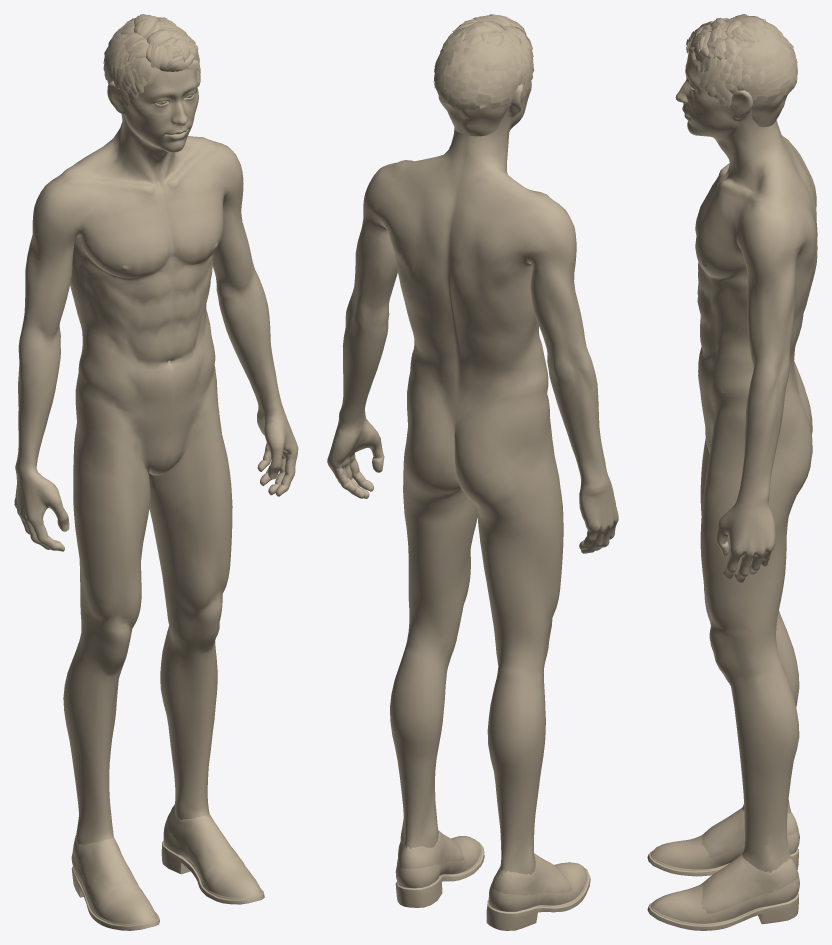
Rendered from mote.fbx.
The picture shows the model from 3 angles, left to right: view 1: azimuth 30°, elevation 25°; view 2: azimuth 150°, elevation 25°; view 3: azimuth 270°, elevation 25°; orthographic projection.
Parts seen in each view (by area): view 1: bodyShape_skin_Shape0, bodyShape_skin_Shape1, bodyShape_skin_Shape2, MV_Hair_Shape0, shoes_r_Shape4, shoes_l_Shape4, shoes_l_Shape1, shoes_r_Shape1, shoes_l_Shape0, shoes_r_Shape0; view 2: bodyShape_skin_Shape0, bodyShape_skin_Shape1, MV_Hair_Shape0, shoes_r_Shape4, shoes_r_Shape1, shoes_l_Shape1, shoes_r_Shape0, shoes_l_Shape4, shoes_l_Shape0, bodyShape_skin_Shape2; view 3: bodyShape_skin_Shape0, bodyShape_skin_Shape1, MV_Hair_Shape0, bodyShape_skin_Shape2, shoes_l_Shape4, shoes_l_Shape1, shoes_r_Shape1, shoes_l_Shape0, shoes_r_Shape4, ear_dummy_Shape0, shoes_r_Shape0.
Boxes of the visible parts, box(x1,y1,x2,y2) form: bodyShape_skin_Shape0: box(14, 144, 298, 844); bodyShape_skin_Shape1: box(50, 122, 231, 519); bodyShape_skin_Shape2: box(108, 69, 198, 173); MV_Hair_Shape0: box(103, 14, 200, 106); shoes_r_Shape4: box(72, 835, 138, 904); shoes_l_Shape4: box(166, 805, 245, 872); shoes_l_Shape1: box(163, 821, 260, 897); shoes_r_Shape1: box(71, 847, 156, 923); shoes_l_Shape0: box(161, 840, 264, 904); shoes_r_Shape0: box(71, 866, 159, 930); bodyShape_skin_Shape0: box(327, 165, 618, 874); bodyShape_skin_Shape1: box(382, 128, 562, 532); MV_Hair_Shape0: box(433, 14, 534, 136); shoes_r_Shape4: box(491, 853, 572, 895); shoes_r_Shape1: box(488, 862, 587, 911); shoes_l_Shape1: box(395, 836, 480, 888); shoes_r_Shape0: box(486, 868, 590, 930); shoes_l_Shape4: box(397, 830, 464, 868); shoes_l_Shape0: box(395, 841, 484, 907); bodyShape_skin_Shape2: box(454, 55, 531, 164); bodyShape_skin_Shape0: box(700, 214, 811, 872); bodyShape_skin_Shape1: box(695, 121, 817, 525); MV_Hair_Shape0: box(686, 14, 797, 127); bodyShape_skin_Shape2: box(675, 30, 776, 172); shoes_l_Shape4: box(701, 853, 798, 913); shoes_l_Shape1: box(652, 875, 799, 923); shoes_r_Shape1: box(652, 830, 799, 869); shoes_l_Shape0: box(647, 893, 798, 930); shoes_r_Shape4: box(701, 807, 798, 857); ear_dummy_Shape0: box(720, 90, 753, 123); shoes_r_Shape0: box(647, 848, 798, 876).
Size of the model in its own units: 6.39 by 19.37 by 3.42.
